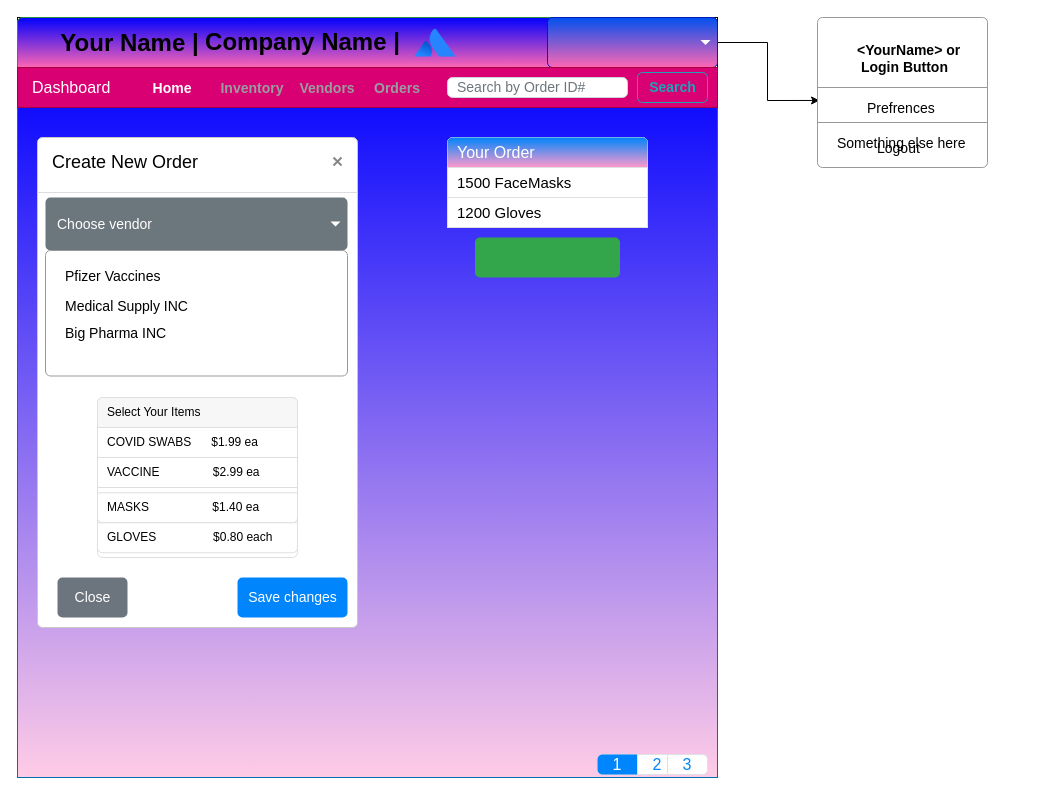
This 1045x795 diagram has some shape labels left out. Here are the shapes that lost their labels. From the top down, the box of each, then its label:
(546, 16, 718, 68): Login
(474, 237, 620, 277): Place Order With Vendor
